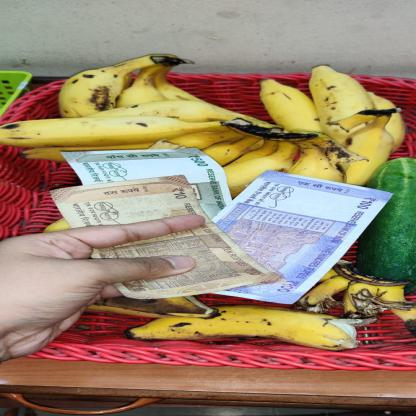New100Back: (212, 169, 395, 304)
New10Back: (49, 175, 288, 300)
New500Back: (59, 147, 233, 221)
